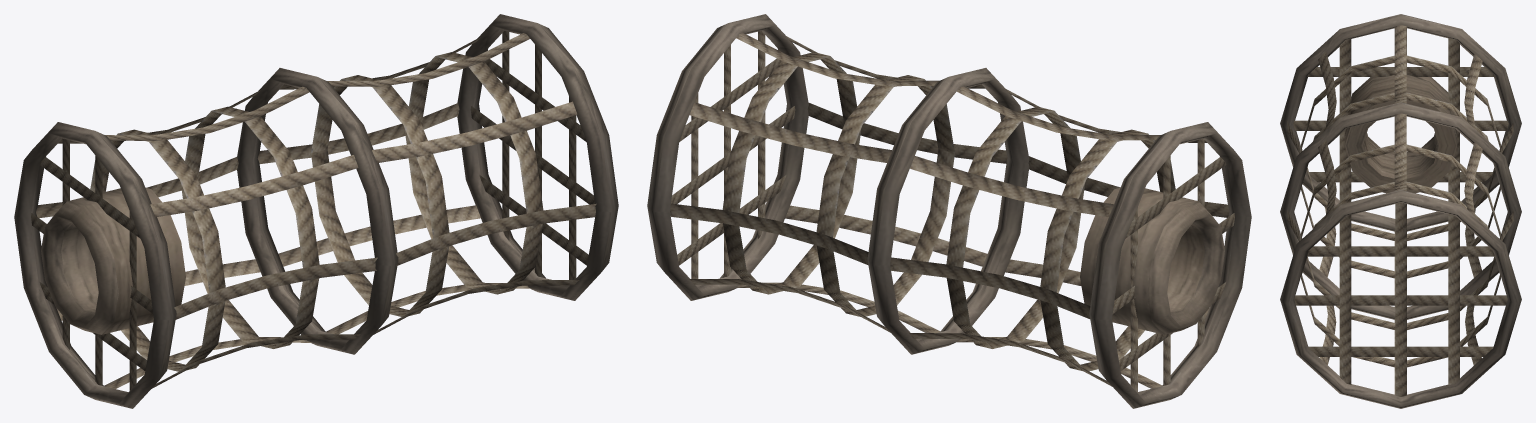
File: Crab_Trap_C.fbx
3 views of the same model, side by side, from view 1: azimuth 30°, elevation 25°; view 2: azimuth 150°, elevation 25°; view 3: azimuth 270°, elevation 25° (orthographic). The views are drawn at different scales.
Visible parts, largest first — view 1: Crab_Trap_C; view 2: Crab_Trap_C; view 3: Crab_Trap_C.
Part boxes in pixels (x1,y1,x2,y2): Crab_Trap_C: (14,14,618,408); Crab_Trap_C: (647,14,1251,408); Crab_Trap_C: (1280,14,1521,408).
Size of the model in its own units: 1.19 by 0.6375 by 0.6375.
